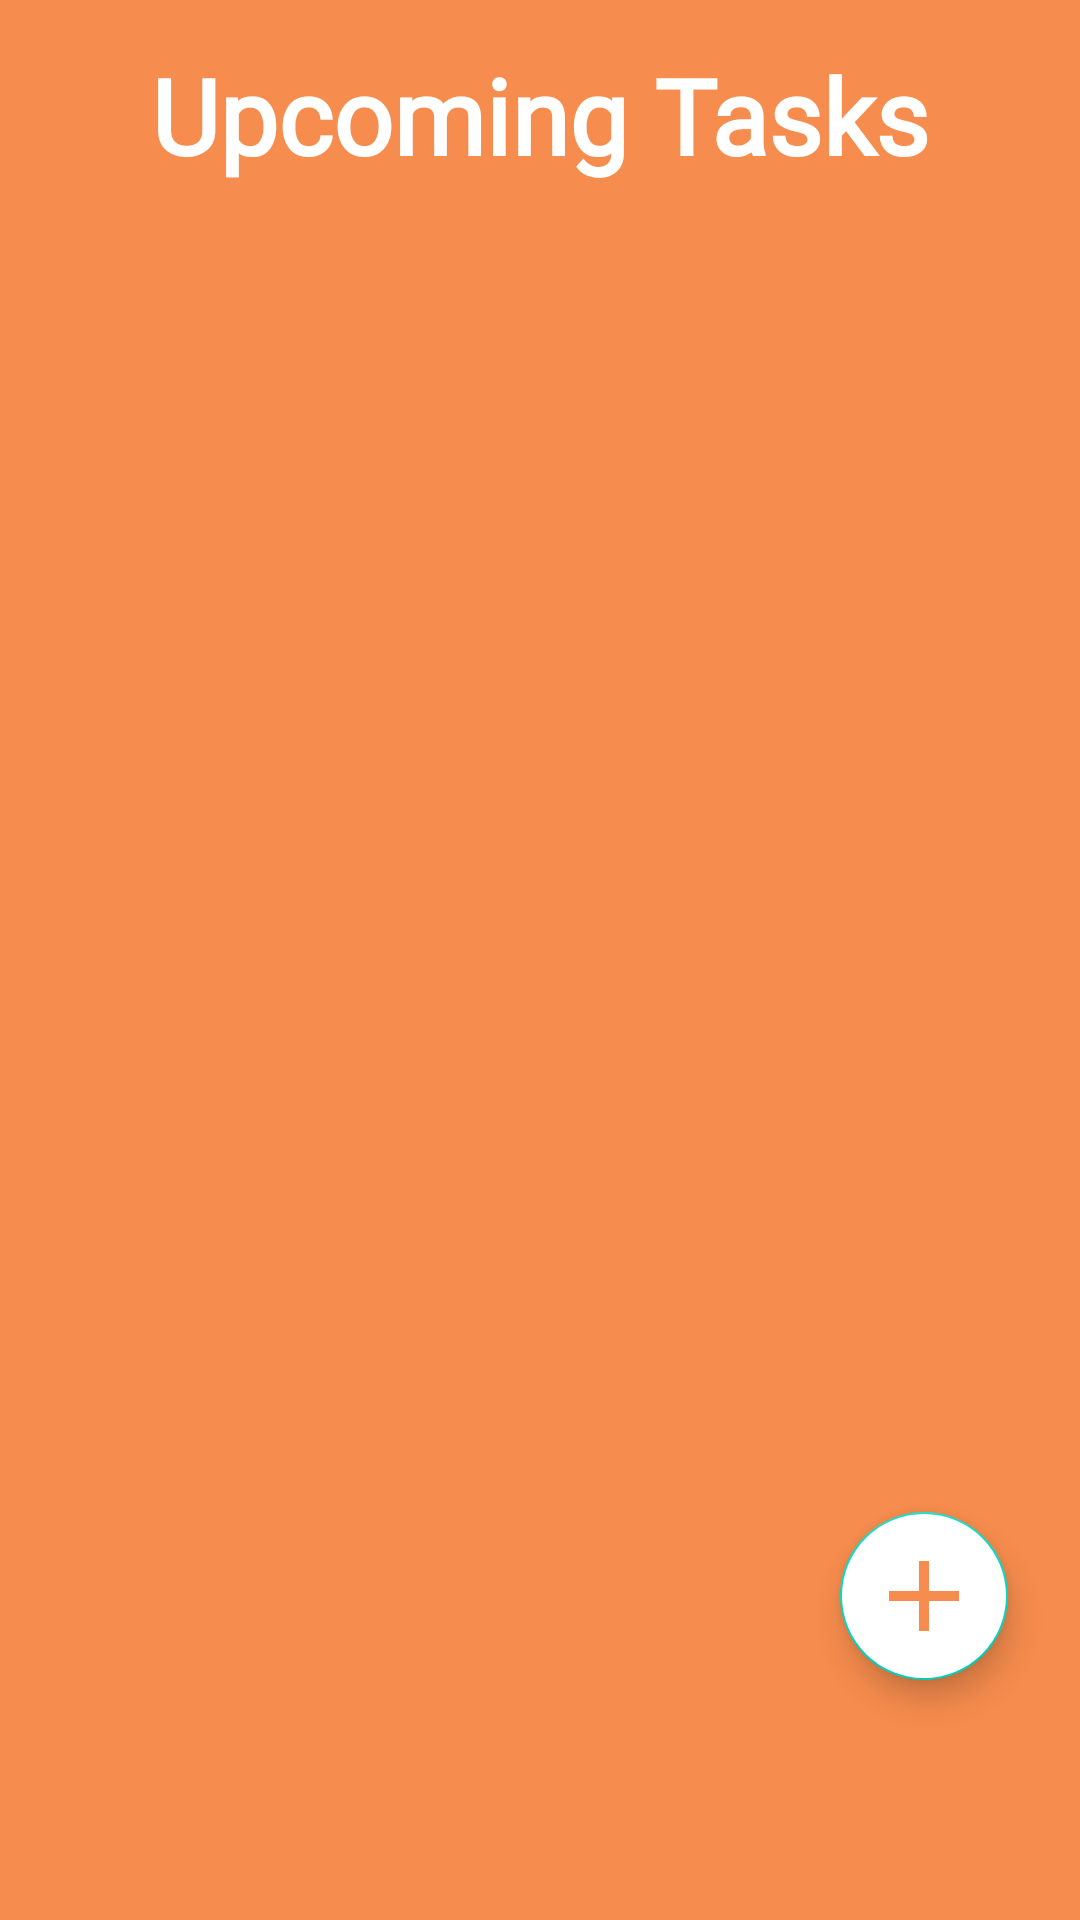

Where icons sit on this 1080x1920 app screen, as (x1, y1, x2, y2):
add: (840, 1512, 1008, 1680)
